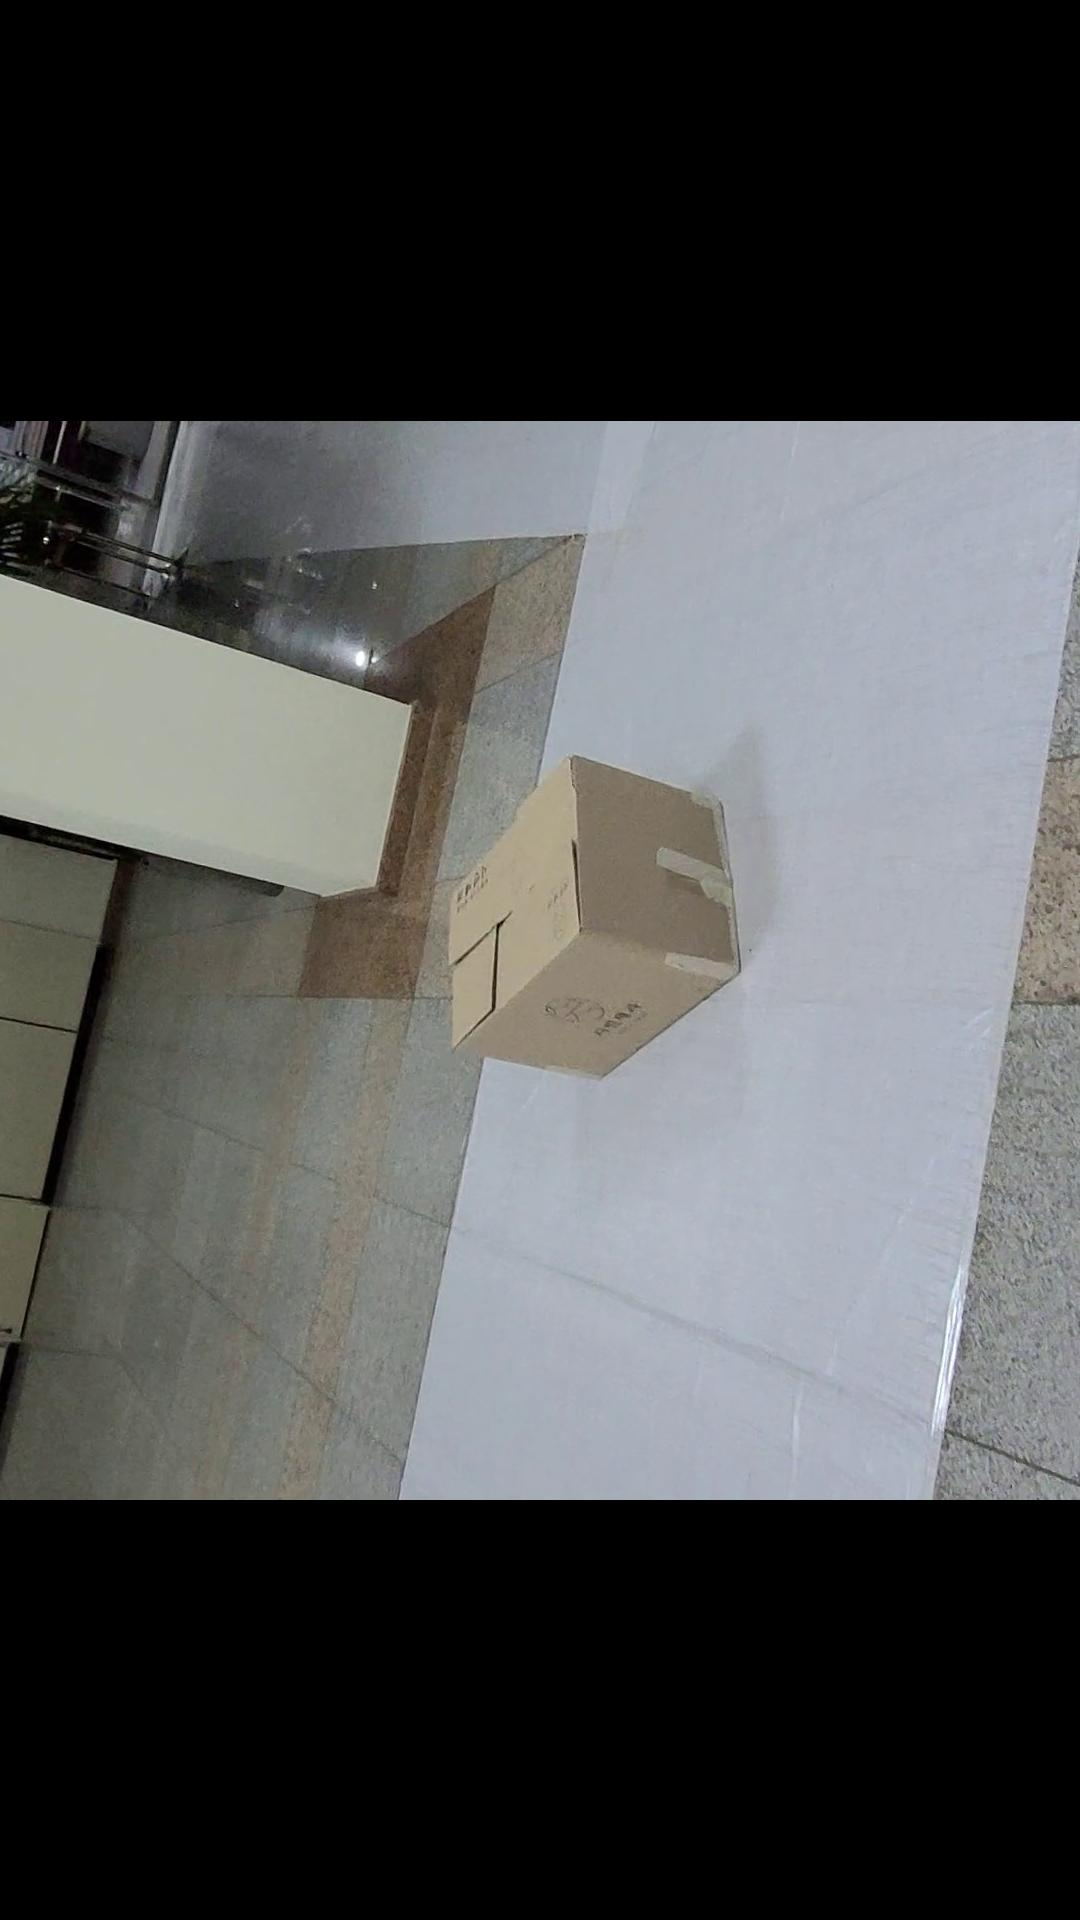Box: (443, 741, 773, 1102)
